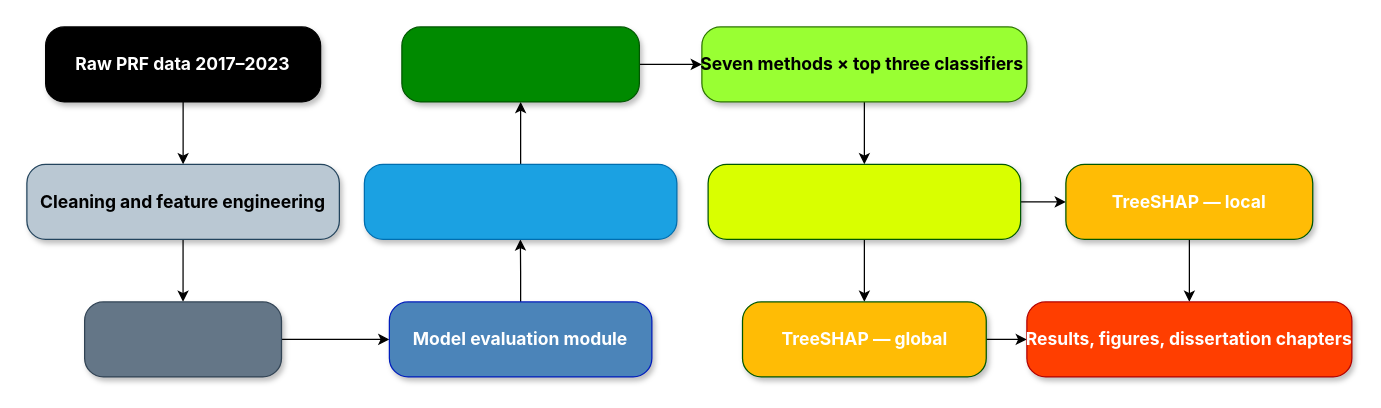
Some shapes in this 1381 by 408 pixel diagram are drawn without their labels. Each missing label, with the centre of its shape:
Hyperparameter tuning: [865,203]
Select top 3 classifiers: [521,66]
Six classifiers, no imbalance handling: [521,203]
Split Data: [183,341]
